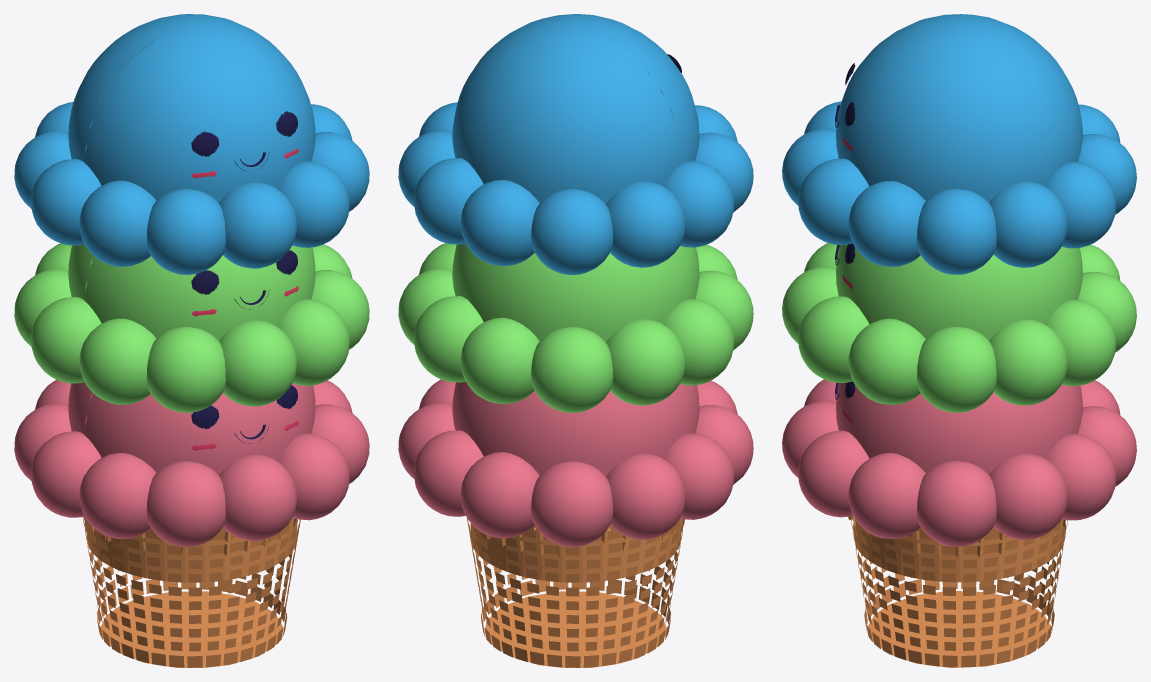
The model's file is this_model_is_cute_and_kawaii.glb.
3 views of the same model, side by side, from view 1: azimuth 30°, elevation 25°; view 2: azimuth 150°, elevation 25°; view 3: azimuth 270°, elevation 25° (orthographic).
Visible parts, largest first — view 1: Helado.001_Azul_0, Helado.002_Verde_0, Helado_Rosado_0, Galleta_Helado_0, Ojos.001_Ojos_0, Ojos.002_Ojos_0, Ojos_Ojos_0; view 2: Helado.001_Azul_0, Helado.002_Verde_0, Helado_Rosado_0, Galleta_Helado_0; view 3: Helado.001_Azul_0, Helado.002_Verde_0, Helado_Rosado_0, Galleta_Helado_0.
Boxes of the visible parts, x1,y1,x2,y2 form: Helado.001_Azul_0: [14, 14, 369, 274]; Helado.002_Verde_0: [14, 243, 369, 412]; Helado_Rosado_0: [14, 379, 369, 547]; Galleta_Helado_0: [82, 516, 300, 667]; Ojos.001_Ojos_0: [191, 111, 297, 156]; Ojos.002_Ojos_0: [191, 250, 297, 294]; Ojos_Ojos_0: [191, 385, 297, 429]; Helado.001_Azul_0: [398, 14, 753, 274]; Helado.002_Verde_0: [398, 243, 753, 412]; Helado_Rosado_0: [398, 379, 753, 547]; Galleta_Helado_0: [467, 518, 684, 667]; Helado.001_Azul_0: [782, 14, 1136, 274]; Helado.002_Verde_0: [782, 243, 1136, 412]; Helado_Rosado_0: [782, 379, 1136, 546]; Galleta_Helado_0: [848, 515, 1067, 667].
Size of the model in its own units: 1.06 by 2 by 1.06.
